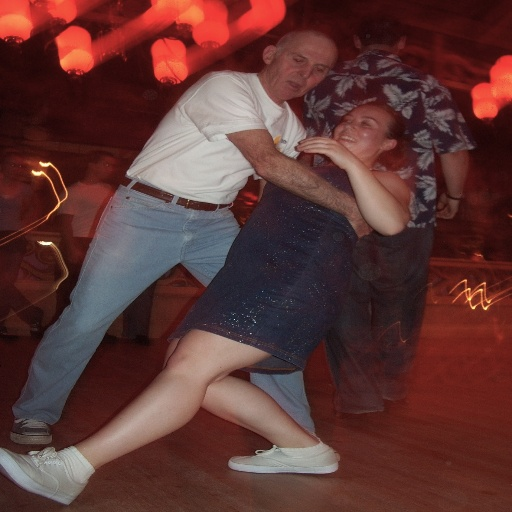hand: (298, 126, 370, 163), (344, 199, 374, 244), (436, 187, 464, 220), (66, 248, 83, 263)
